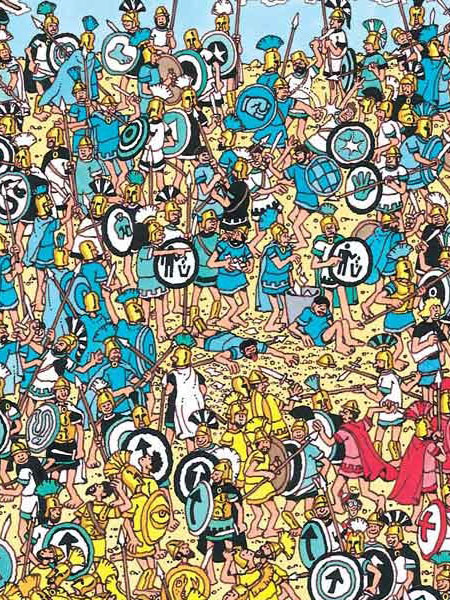waldo: (338, 490, 361, 520)
